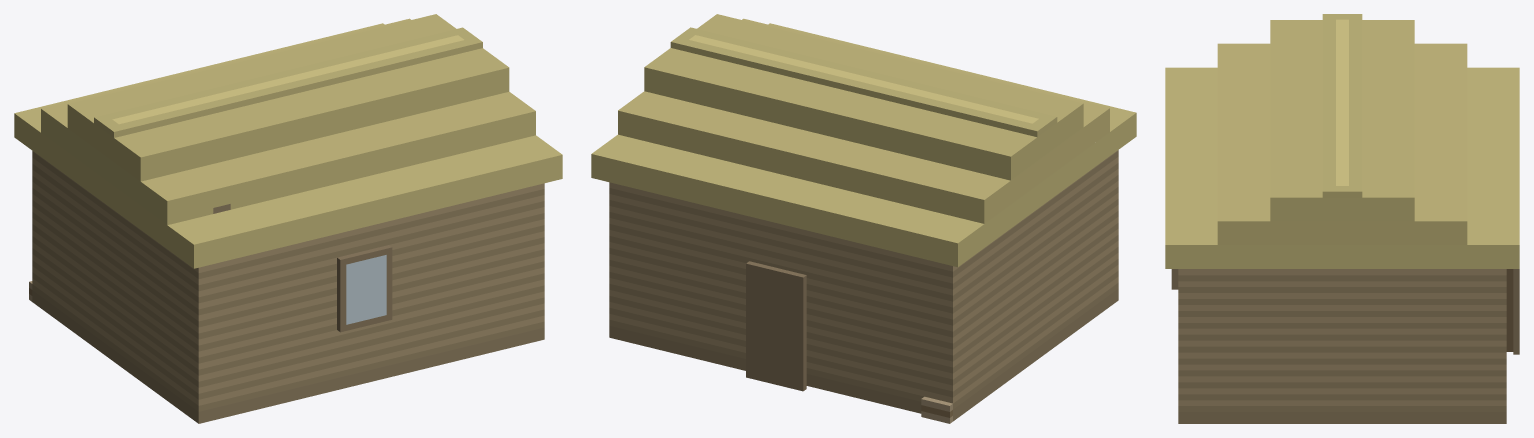
File: choza_pescador_04.glb
3 renders of one model, left to right at view 1: azimuth 30°, elevation 25°; view 2: azimuth 150°, elevation 25°; view 3: azimuth 270°, elevation 25°, orthographic.
Visible parts, largest first — view 1: choza_pescador_04; view 2: choza_pescador_04; view 3: choza_pescador_04.
Part boxes in pixels (x1=…): choza_pescador_04: x1=14, y1=14, x2=562, y2=423; choza_pescador_04: x1=591, y1=14, x2=1136, y2=423; choza_pescador_04: x1=1165, y1=14, x2=1519, y2=423.
Size of the model in its own units: 6.4 by 4 by 5.4.
